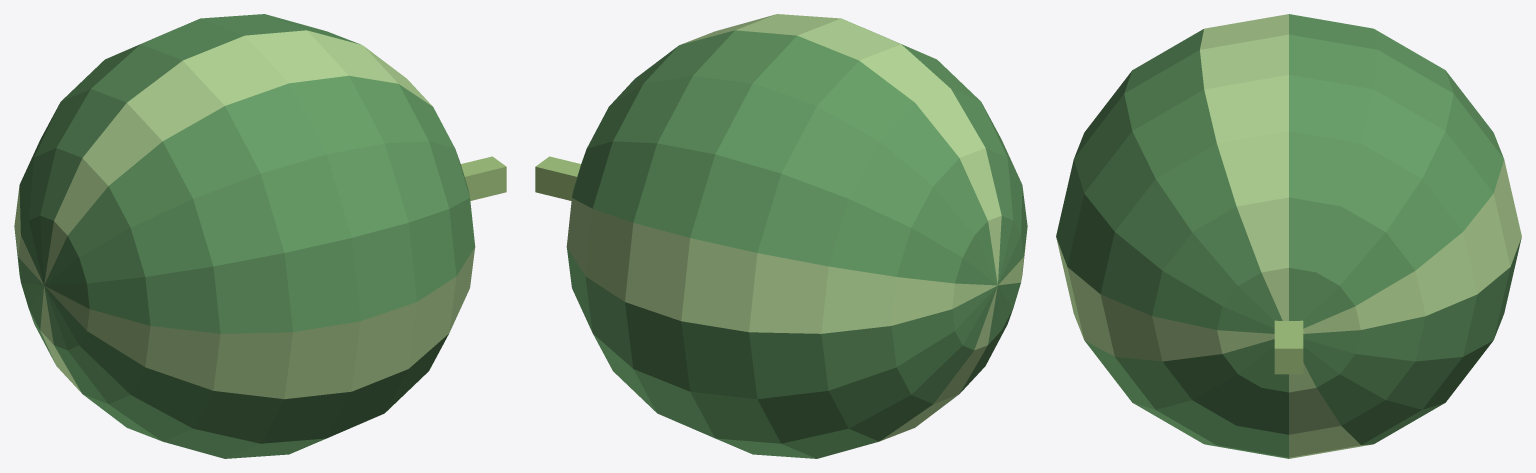
Rendered from melon.glb.
3 views of the same model, side by side, from view 1: azimuth 30°, elevation 25°; view 2: azimuth 150°, elevation 25°; view 3: azimuth 270°, elevation 25° (orthographic).
Visible parts, largest first — view 1: melon; view 2: melon; view 3: melon.
Part boxes in pixels (x1,y1,x2,y2): melon: (14, 14, 506, 458); melon: (535, 14, 1027, 458); melon: (1056, 14, 1521, 458).
Size of the model in its own units: 1.31 by 1.1 by 1.15.
